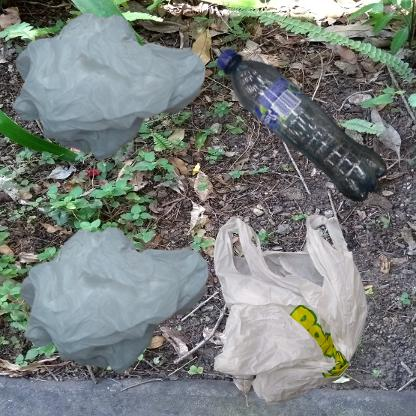bolsa: (10, 213, 229, 392), (10, 10, 209, 165), (213, 213, 368, 406)
botella: (213, 10, 416, 278)
